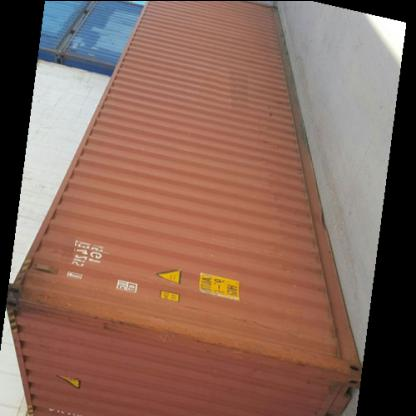Damage: (124, 303, 268, 347), (240, 332, 346, 382), (11, 282, 123, 328)
